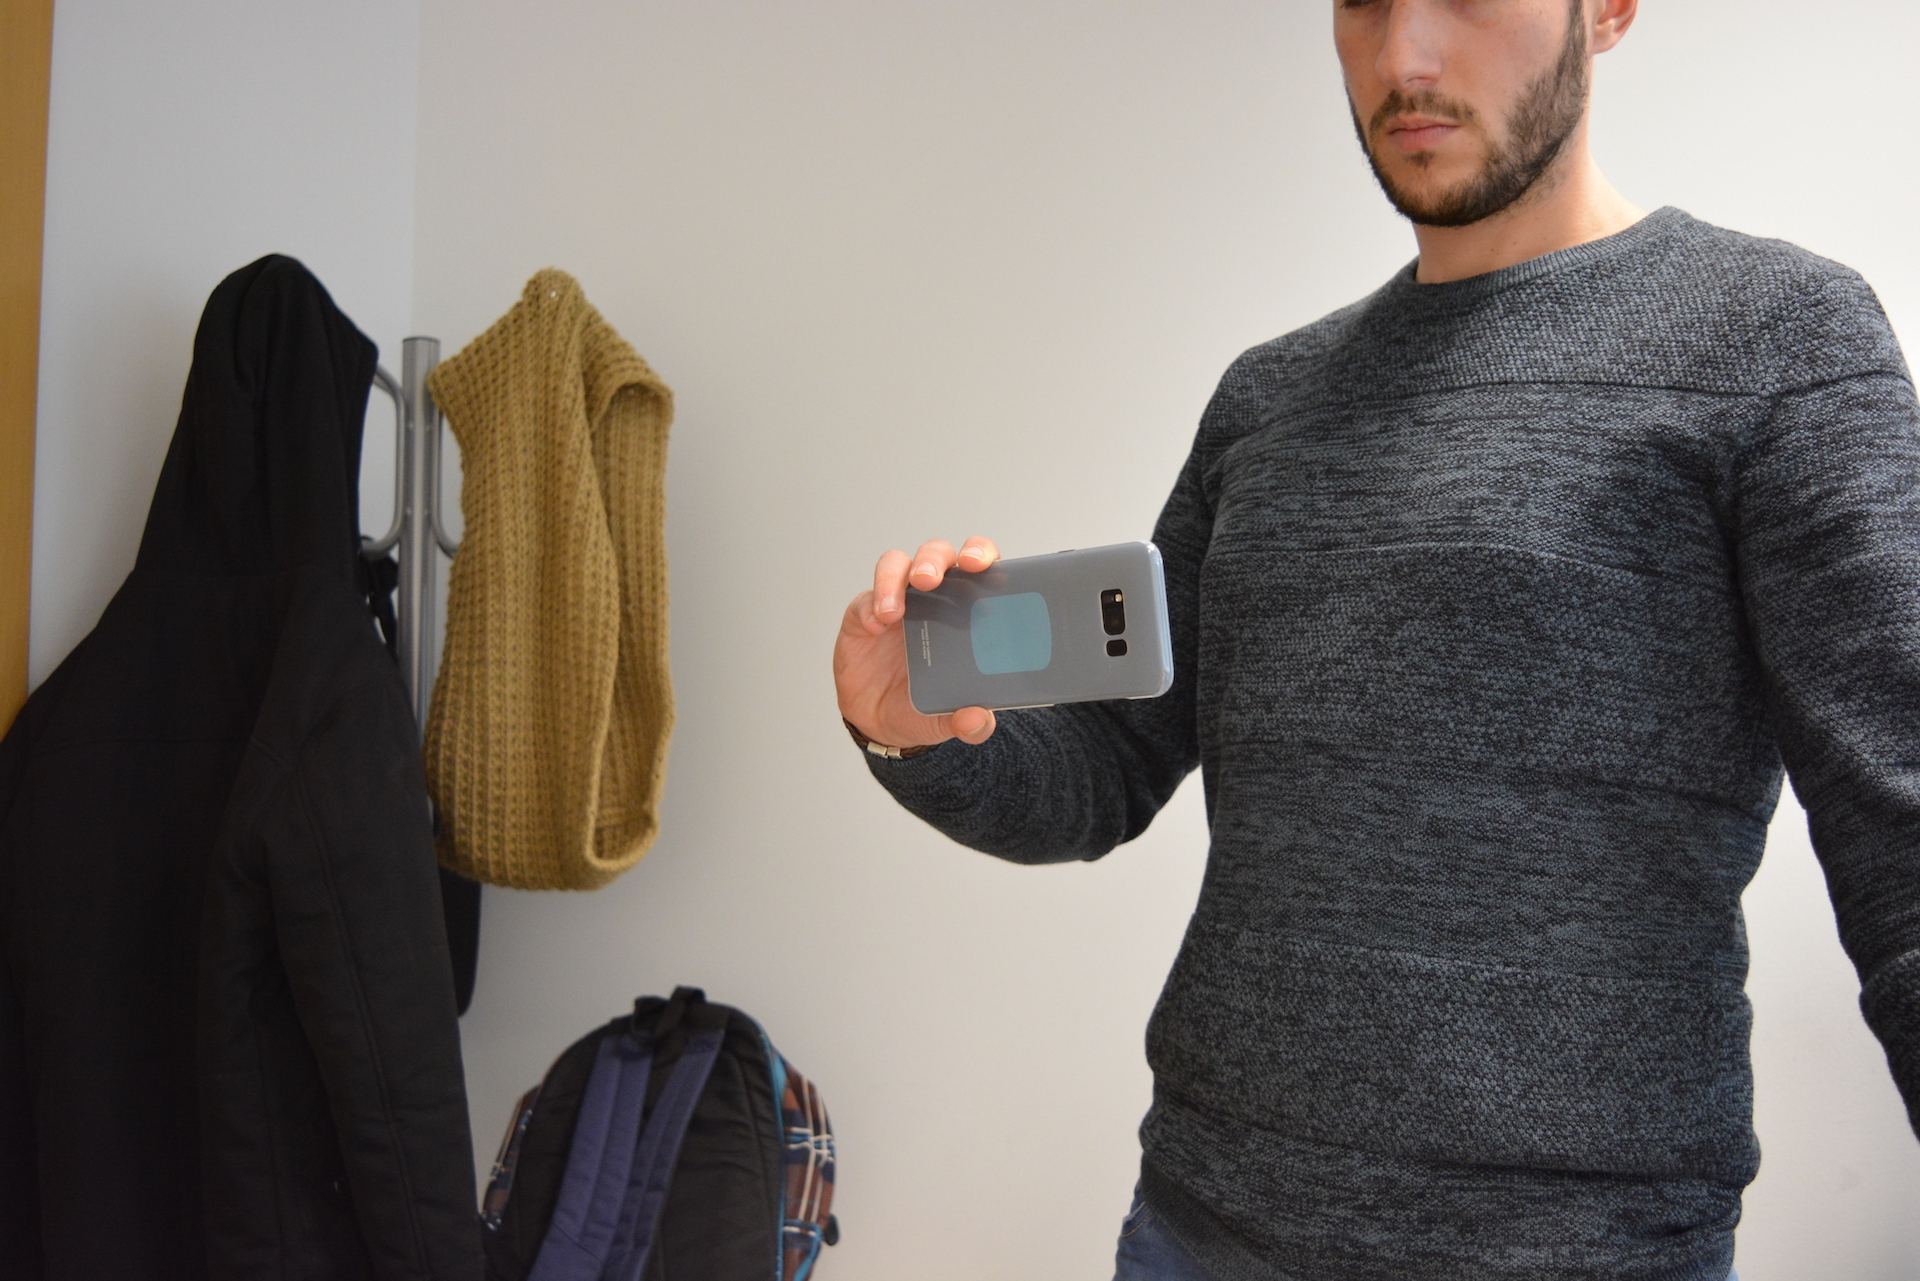smartphone: (901, 538, 1177, 718)
